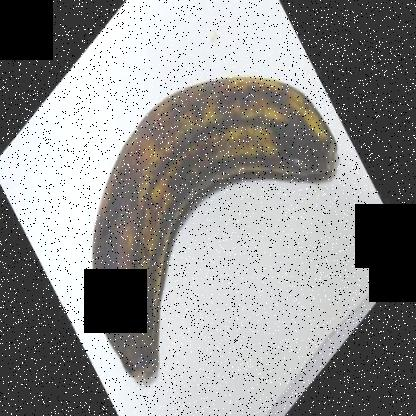overripe: (67, 68, 343, 398)
